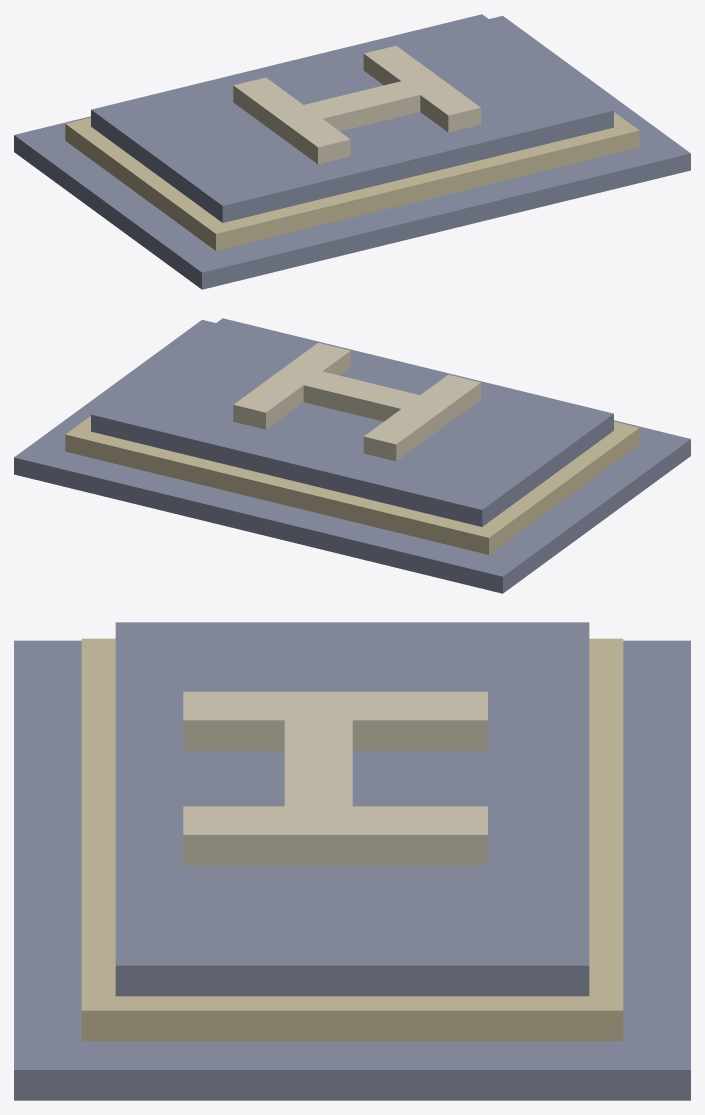
Rendered from aerospace-20.glb.
The picture shows the model from 3 angles, top to bottom: view 1: azimuth 30°, elevation 25°; view 2: azimuth 150°, elevation 25°; view 3: azimuth 270°, elevation 25°; orthographic projection. The views are drawn at different scales.
Visible parts, largest first — view 1: Landing pad; view 2: Landing pad; view 3: Landing pad.
Boxes of the visible parts, bbox=[...] form: Landing pad: bbox=[14, 14, 690, 289]; Landing pad: bbox=[14, 318, 690, 593]; Landing pad: bbox=[14, 622, 690, 1100].
Bounding box in the file's own units: 2.4 × 0.32 × 1.6.
